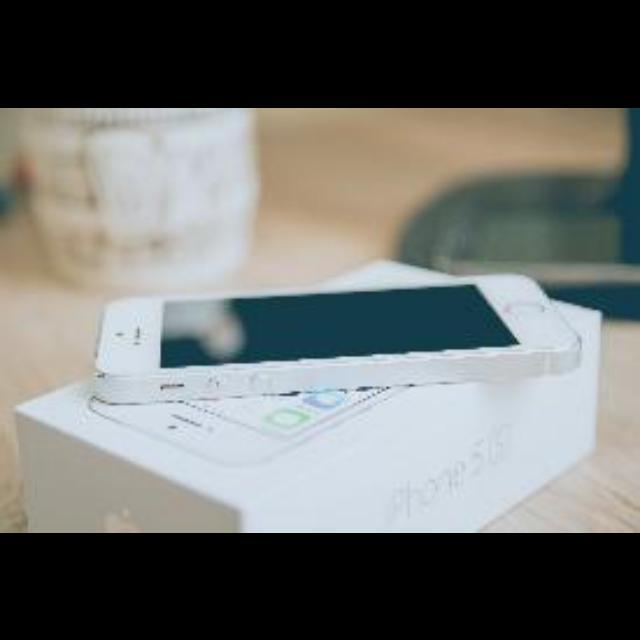phone: (52, 254, 607, 420)
